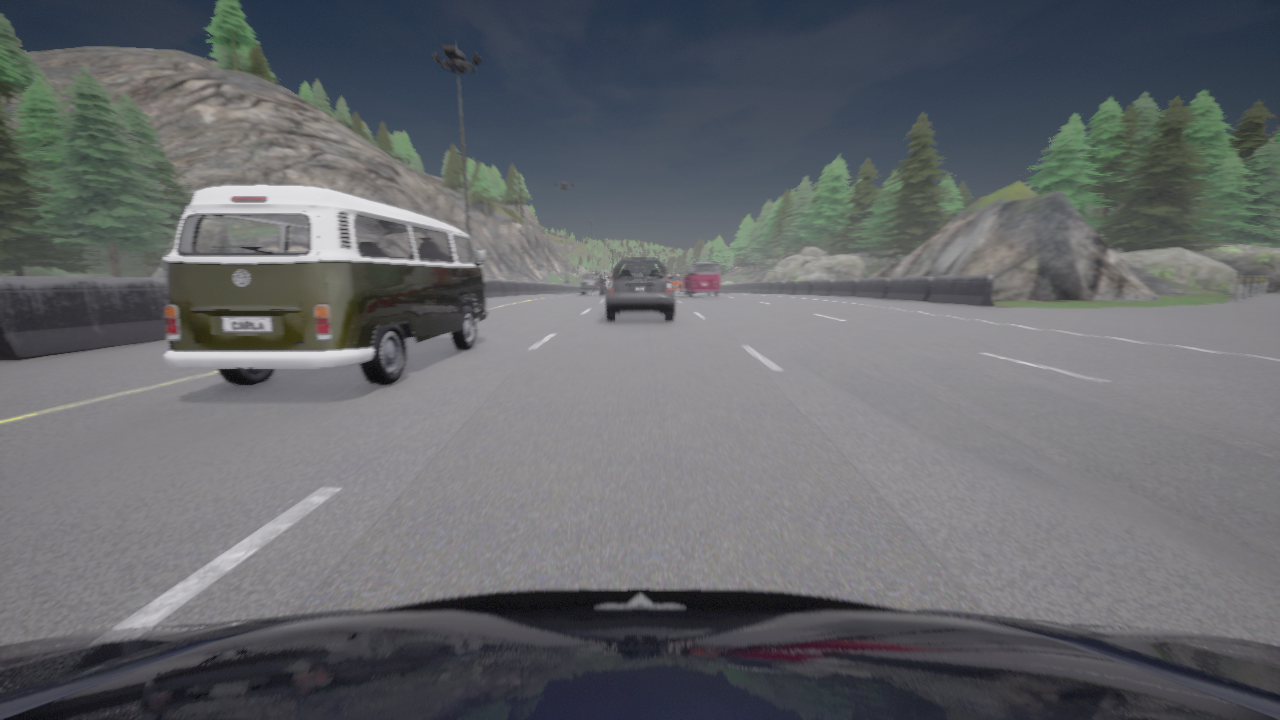cyclist: (0, 588, 1279, 719), (163, 184, 487, 385), (605, 258, 674, 321), (682, 262, 719, 297), (579, 274, 605, 294), (669, 274, 682, 293)
